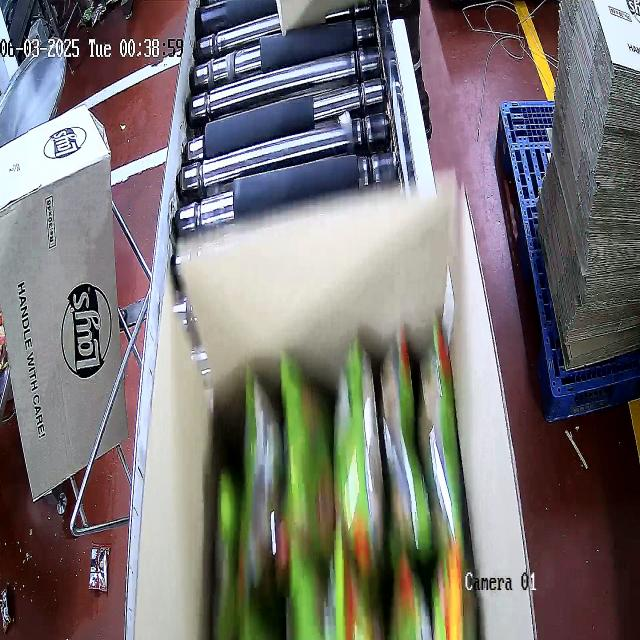YOGURT_HERB: (211, 368, 489, 640)
